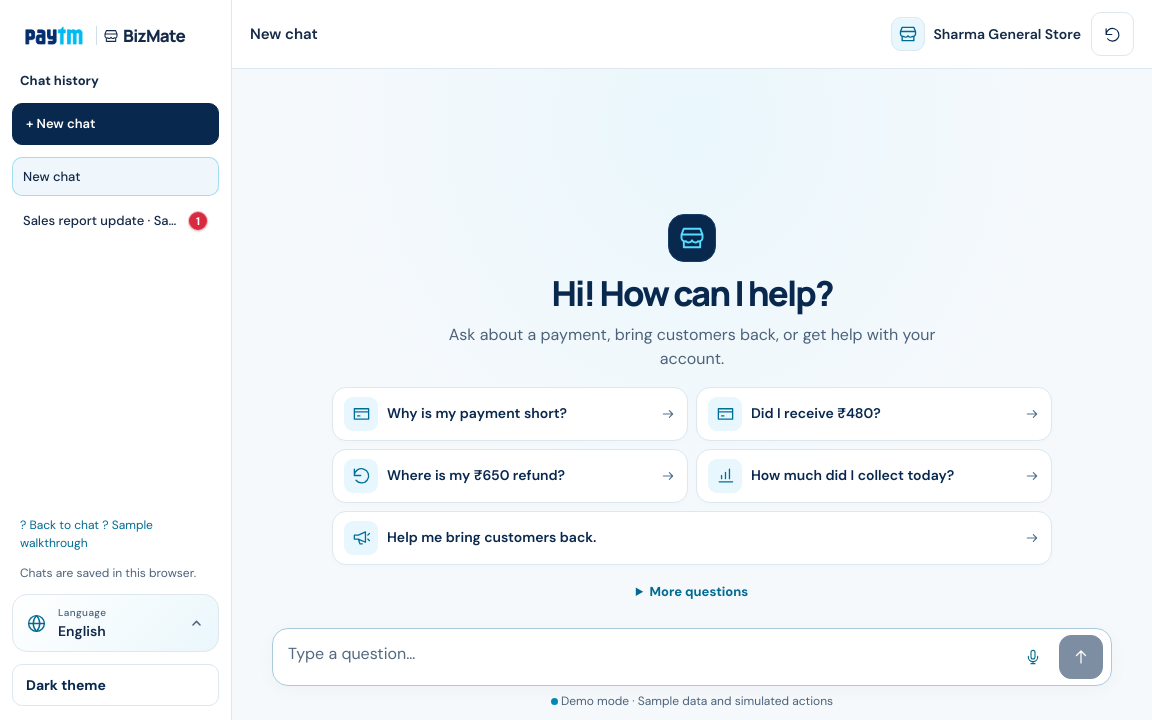
Test: preserves the draft after a transcription failure in te
The width and height of the screenshot is (1152, 720).
Click the button with aria-label "Language:" at (116, 623), box [12, 594, 219, 652]
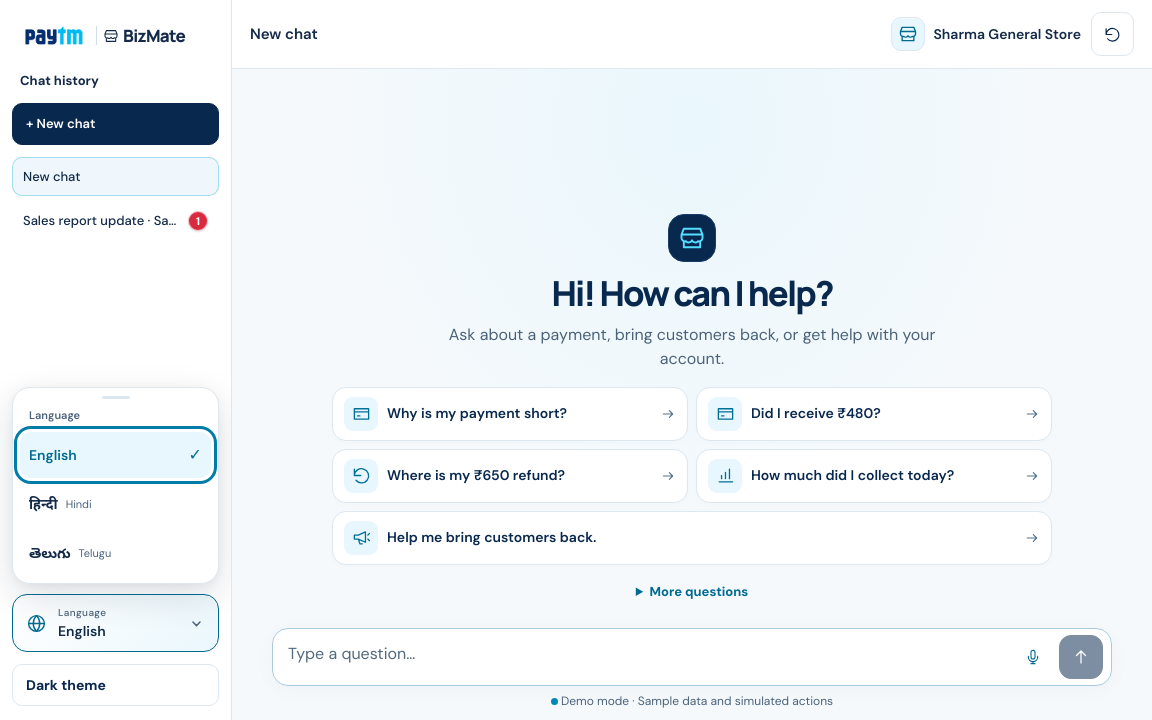
Click the menu item "తెలుగు Telugu" at (116, 553), box [20, 530, 211, 576]
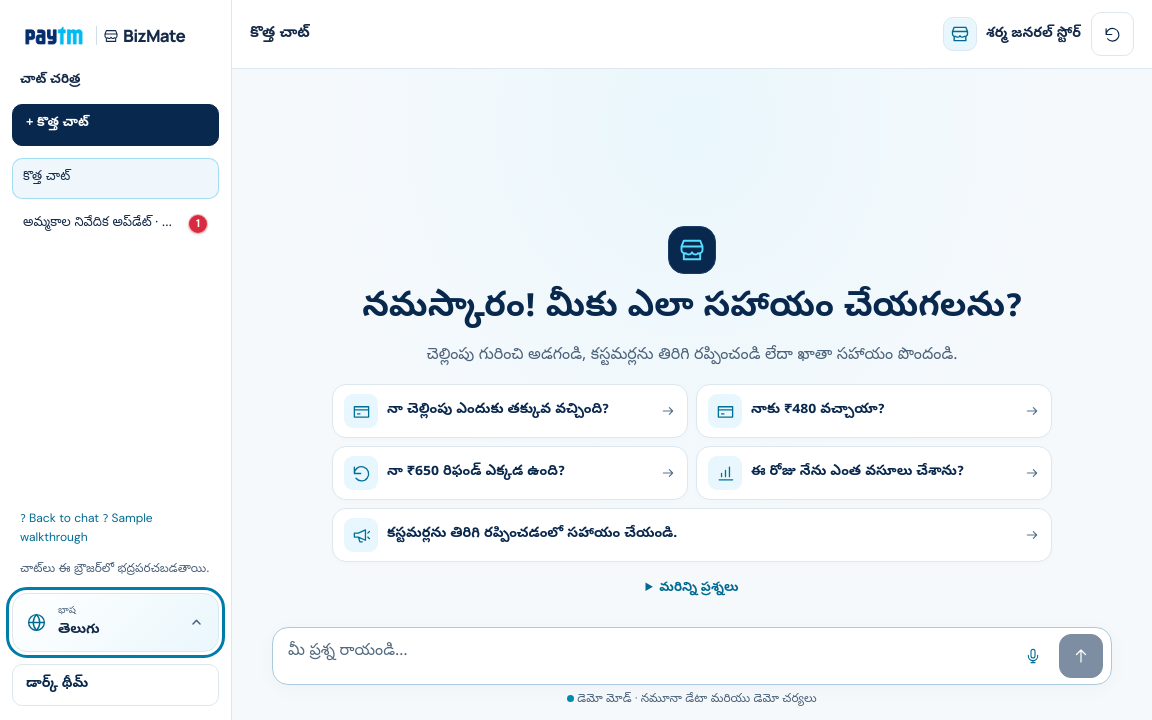
Type "Existing draft" into the text box labelled "మీ ప్రశ్న రాయండి" at (643, 656), box [281, 634, 1005, 678]
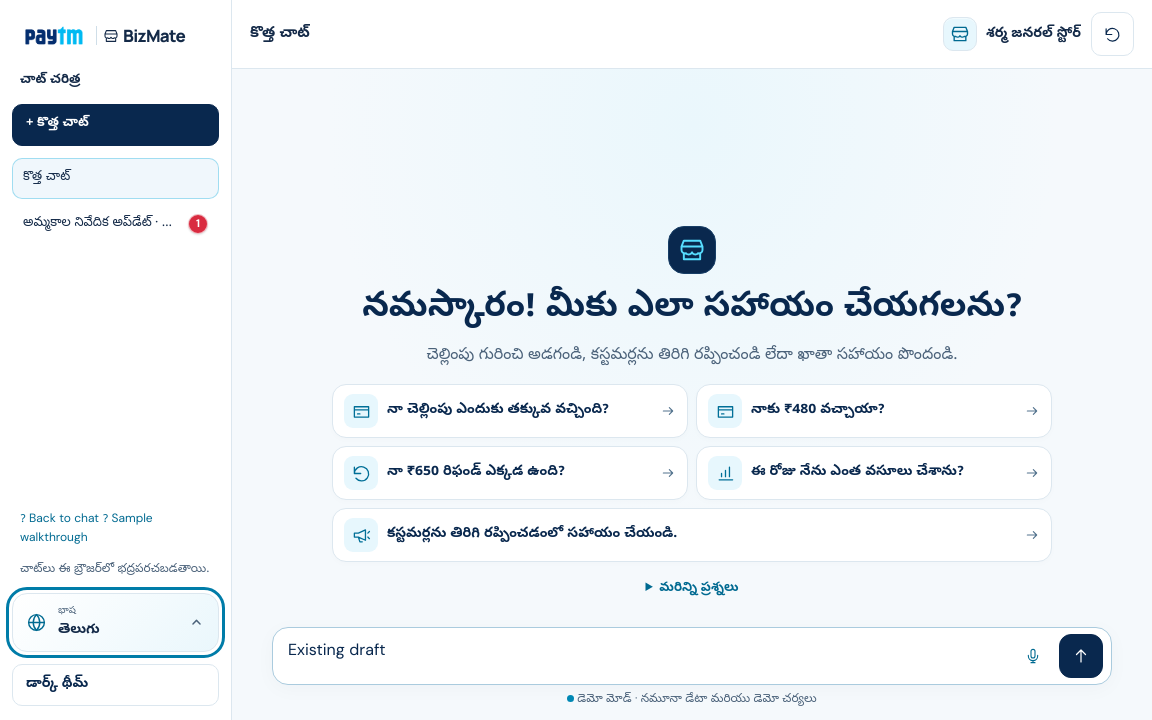
Click the button named "మాట్లాడండి" at (1033, 656), box [1011, 634, 1055, 678]
Wait 3000 ms
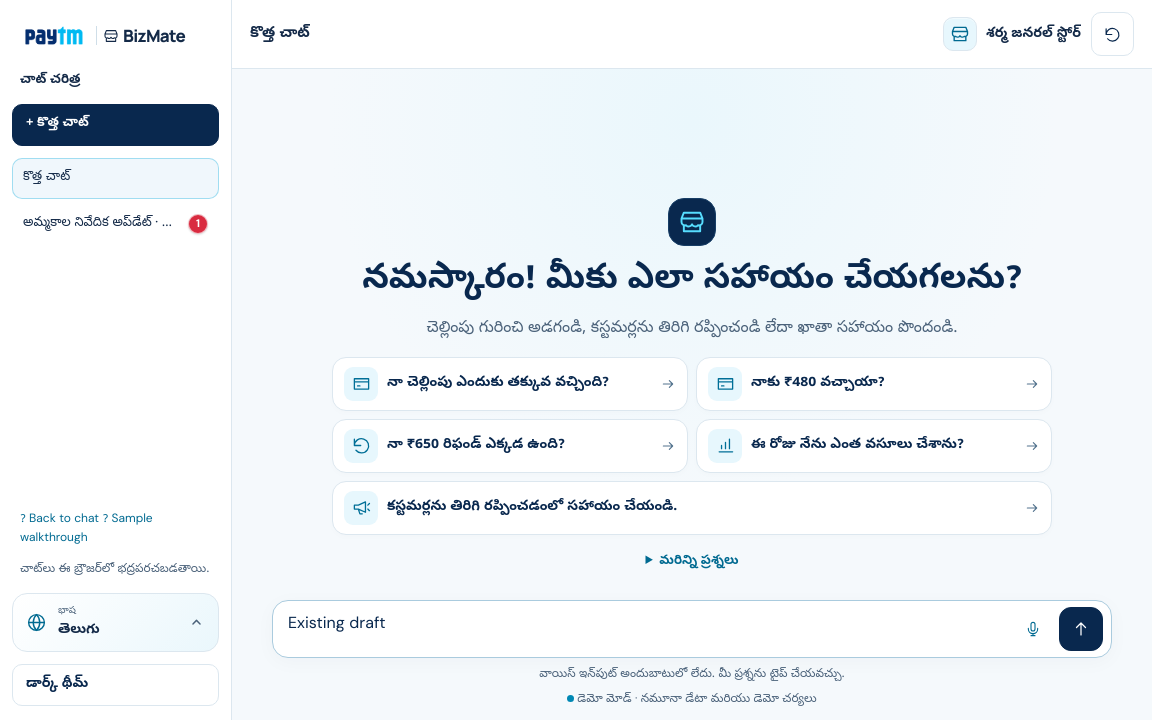
Expected: the text "వాయిస్ ఇన్‌పుట్ అందుబాటులో లేదు. మీ ప్రశ్నను టైప్ చేయవచ్చు." is shown, [539, 667, 845, 683]
